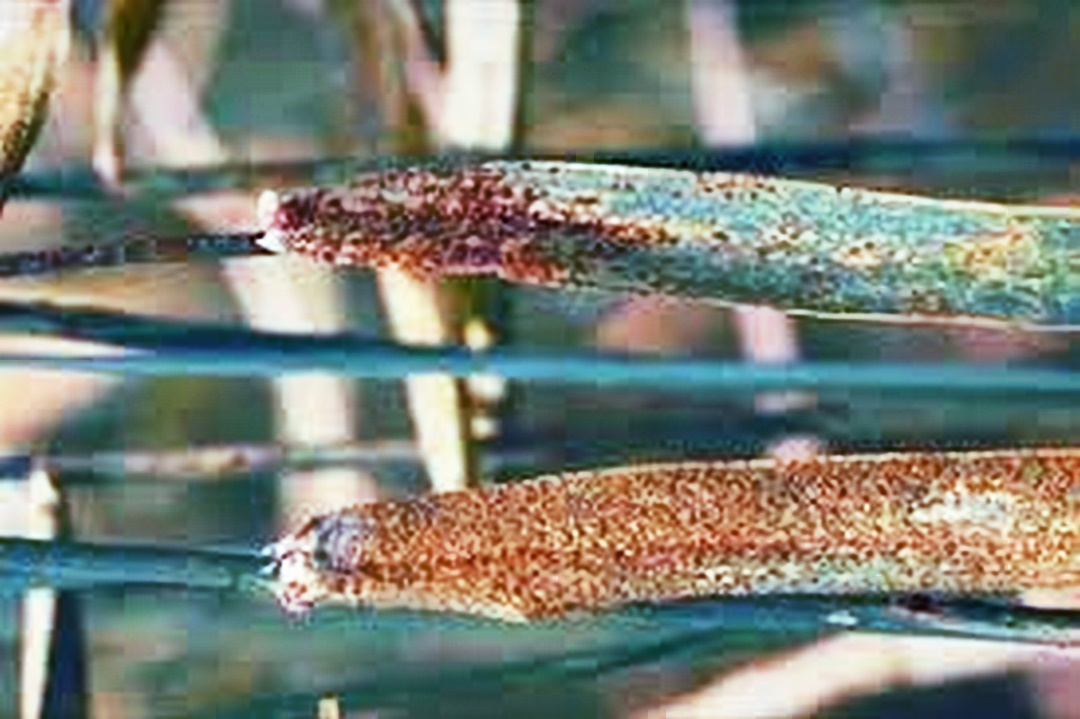Leaf Rust: (357, 444, 1019, 645)
